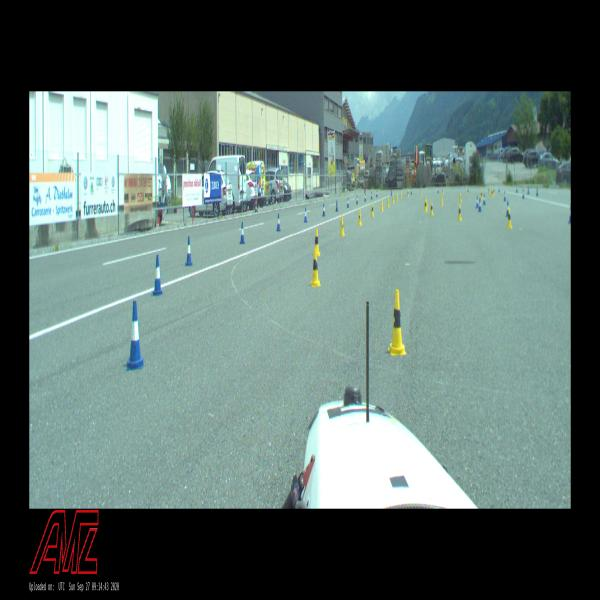blue_cone: (126, 301, 144, 369), (153, 255, 162, 295), (185, 236, 193, 266), (240, 222, 245, 244), (276, 214, 281, 231), (568, 205, 571, 224), (304, 208, 308, 222), (335, 200, 339, 212), (479, 198, 482, 212), (322, 203, 325, 216), (506, 201, 508, 216), (483, 194, 486, 204), (522, 189, 525, 198), (536, 187, 539, 196), (476, 196, 478, 208), (347, 197, 349, 207), (504, 191, 506, 201), (364, 193, 366, 202), (370, 191, 372, 200), (356, 196, 358, 204), (527, 186, 529, 194), (376, 190, 378, 197), (498, 185, 500, 192), (516, 186, 518, 193), (467, 186, 469, 192), (391, 189, 392, 196), (411, 188, 412, 194), (438, 187, 439, 193)
yellow_cone: (388, 289, 406, 354), (310, 248, 321, 286), (313, 229, 320, 256), (507, 208, 512, 228), (457, 204, 462, 221), (340, 216, 344, 235), (358, 209, 361, 225), (430, 202, 433, 215), (371, 203, 374, 216), (424, 199, 427, 211), (381, 199, 384, 211), (387, 197, 390, 207), (459, 192, 462, 202), (480, 190, 483, 199), (426, 197, 428, 209), (441, 195, 443, 205), (392, 194, 394, 204), (419, 189, 422, 195), (491, 188, 493, 197), (493, 187, 495, 196), (396, 193, 398, 200), (400, 191, 402, 198), (407, 190, 409, 197), (488, 187, 490, 194), (442, 188, 444, 194), (466, 186, 467, 194)
